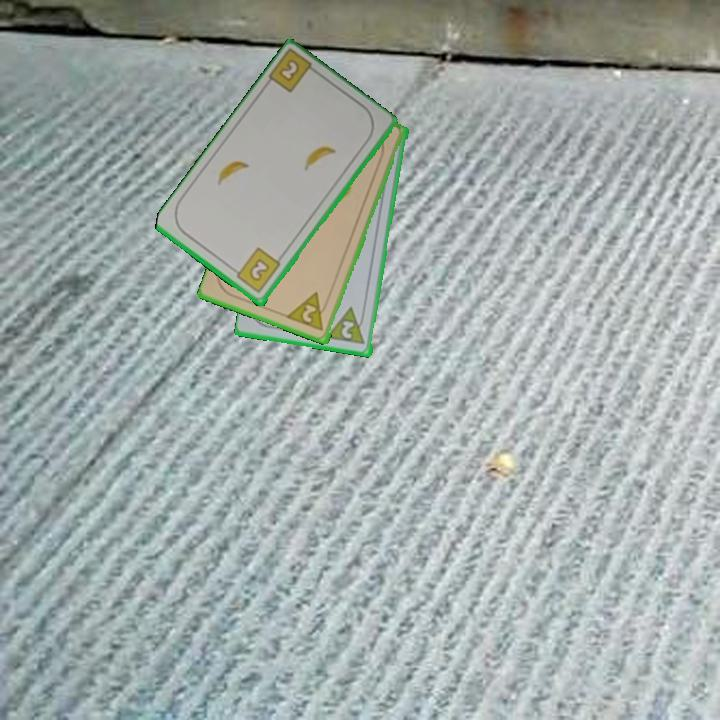2b: (229, 244, 284, 296), (275, 56, 303, 85)
2p: (285, 289, 331, 335), (338, 317, 357, 342)
